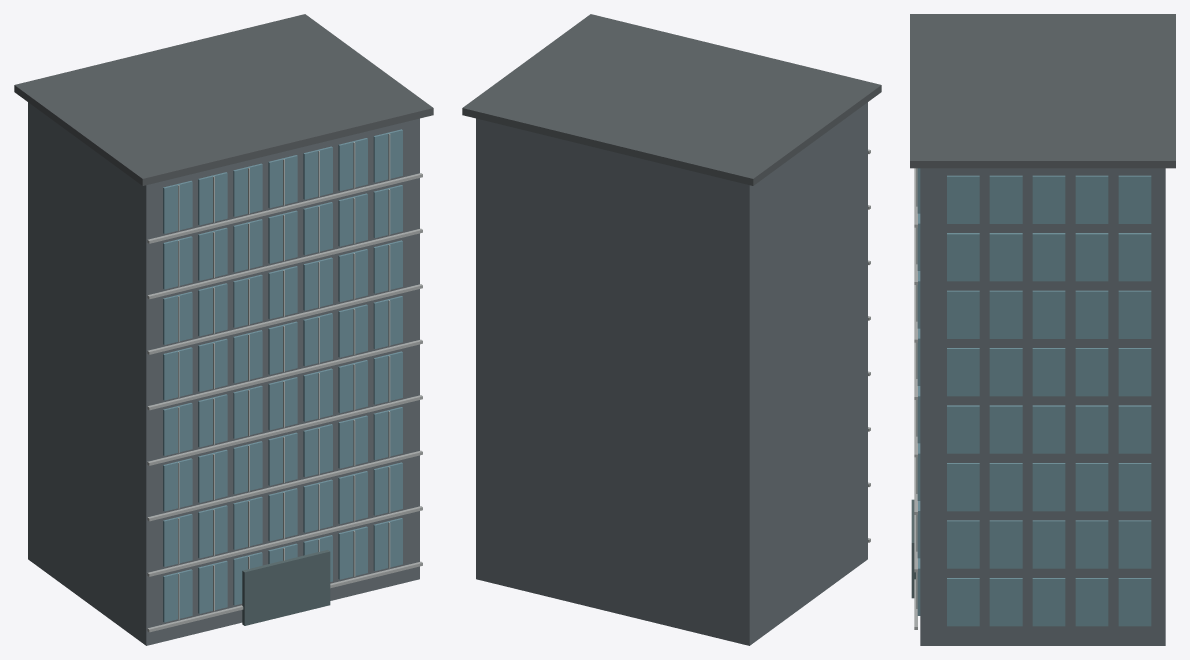
The model's file is glass_office_tower.glb.
3 renders of one model, left to right at view 1: azimuth 30°, elevation 25°; view 2: azimuth 150°, elevation 25°; view 3: azimuth 270°, elevation 25°, orthographic. The views are drawn at different scales.
Parts seen in each view (by area): view 1: m0, m1, m162, m101, m121, m141, m161, m61, m41, m81, m72, m112 (+53 smaller); view 2: m0, m1; view 3: m0, m1, m36, m37, m38, m39, m76, m77, m78, m79, m19, m59 (+31 smaller).
Boxes of the visible parts, x1=… form: m0: x1=28, y1=102, x2=419, y2=645; m1: x1=14, y1=14, x2=433, y2=185; m162: x1=242, y1=549, x2=330, y2=625; m101: x1=147, y1=339, x2=422, y2=410; m121: x1=147, y1=284, x2=422, y2=354; m141: x1=147, y1=228, x2=422, y2=299; m161: x1=147, y1=173, x2=422, y2=243; m61: x1=147, y1=450, x2=422, y2=521; m41: x1=147, y1=506, x2=422, y2=576; m81: x1=147, y1=395, x2=422, y2=465; m72: x1=338, y1=360, x2=367, y2=413; m112: x1=338, y1=249, x2=367, y2=302; m0: x1=476, y1=102, x2=867, y2=645; m1: x1=462, y1=14, x2=881, y2=185; m0: x1=920, y1=168, x2=1165, y2=645; m1: x1=910, y1=14, x2=1175, y2=168; m36: x1=1118, y1=520, x2=1151, y2=568; m37: x1=1075, y1=520, x2=1108, y2=568; m38: x1=1032, y1=520, x2=1065, y2=568; m39: x1=989, y1=520, x2=1022, y2=568; m76: x1=1118, y1=405, x2=1151, y2=453; m77: x1=1075, y1=405, x2=1108, y2=453; m78: x1=1032, y1=405, x2=1065, y2=453; m79: x1=989, y1=405, x2=1022, y2=453; m19: x1=989, y1=578, x2=1022, y2=626; m59: x1=989, y1=463, x2=1022, y2=511.
Bounding box in the file's own units: 17 × 26.4 × 13.
